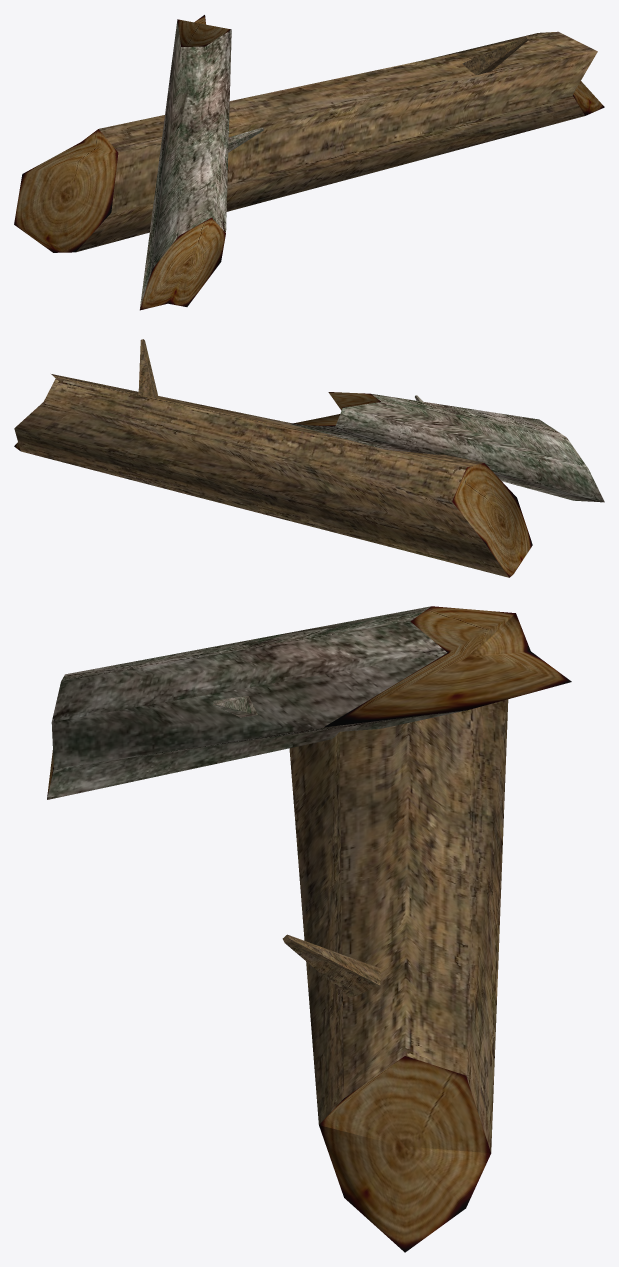
File: gen_log_group01.fbx
The picture shows the model from 3 angles, top to bottom: view 1: azimuth 30°, elevation 25°; view 2: azimuth 150°, elevation 25°; view 3: azimuth 270°, elevation 25°; orthographic projection. The views are drawn at different scales.
Parts seen in each view (by area): view 1: polycombine3, polycombine2; view 2: polycombine3, polycombine2; view 3: polycombine3, polycombine2.
Boxes of the visible parts, x1,y1,x2,y2 form: polycombine3: (14, 31, 604, 252); polycombine2: (139, 15, 263, 310); polycombine3: (14, 339, 532, 577); polycombine2: (290, 392, 604, 502); polycombine3: (282, 699, 508, 1252); polycombine2: (47, 606, 571, 799).
Bounding box in the file's own units: 992 × 284 × 440.
1 material, 1 textured.
